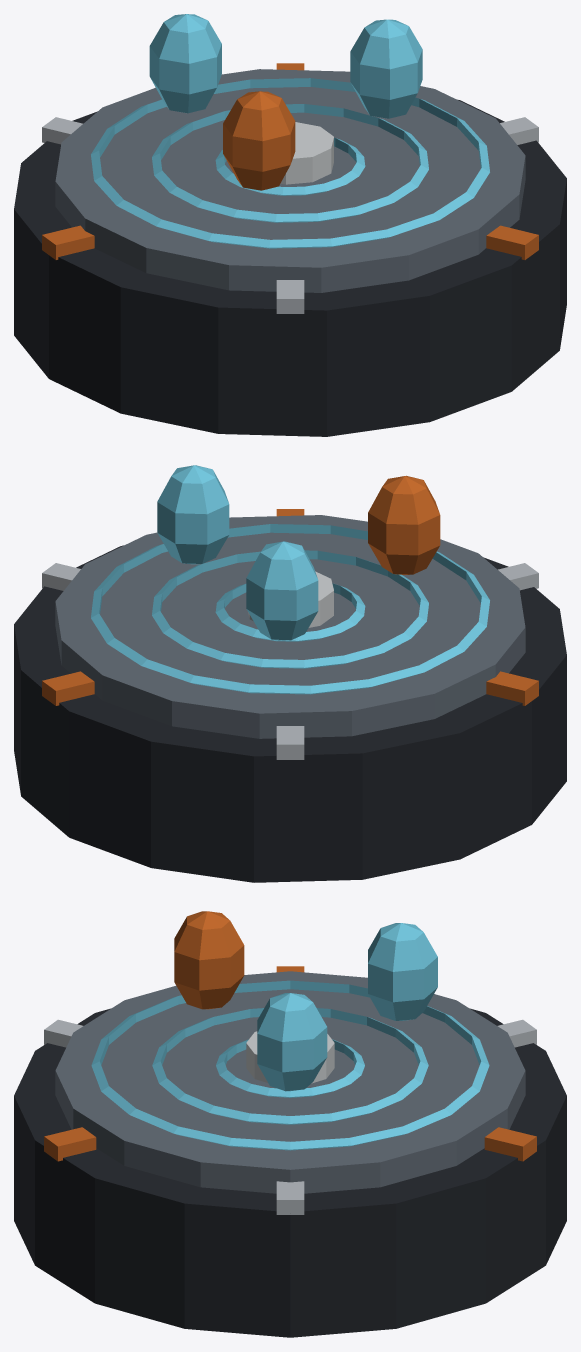
File: dejarik-set.glb
3 renders of one model, top to bottom at view 1: azimuth 30°, elevation 25°; view 2: azimuth 150°, elevation 25°; view 3: azimuth 270°, elevation 25°, orthographic.
Parts seen in each view (by area): view 1: m; view 2: m; view 3: m.
Boxes of the visible parts, x1,y1,x2,y2 form: m: [14, 14, 566, 436]; m: [14, 465, 566, 882]; m: [14, 911, 566, 1337].
Bounding box in the file's own units: 0.2 × 0.1096 × 0.2.
